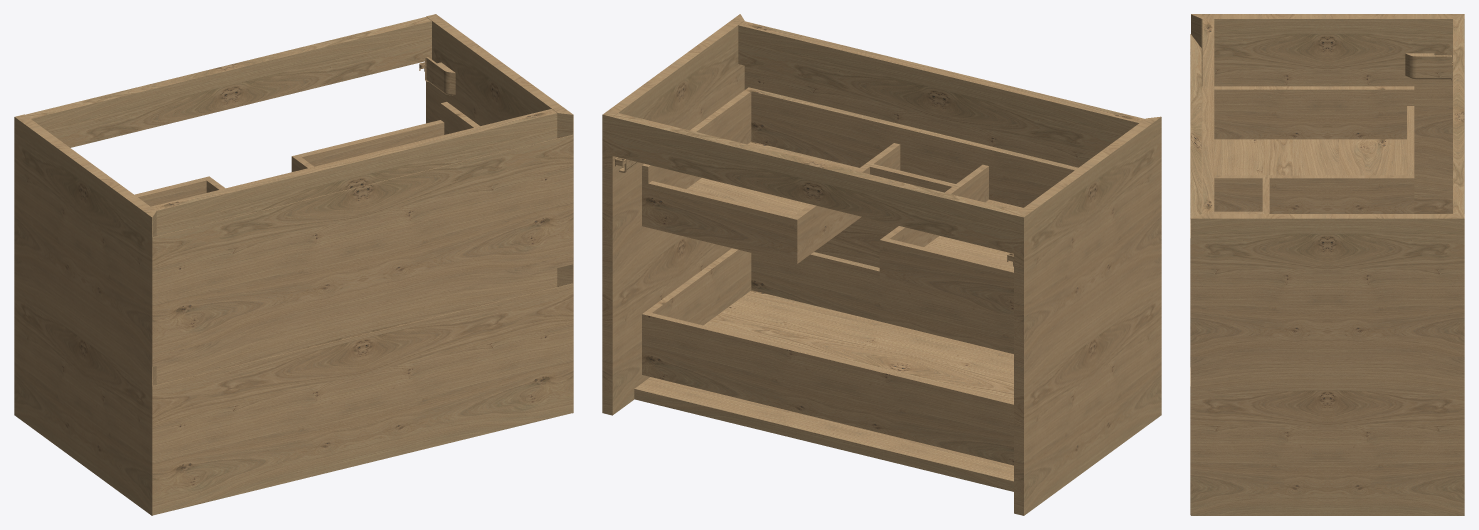
The model's file is moment8002c.glb.
3 renders of one model, left to right at view 1: azimuth 30°, elevation 25°; view 2: azimuth 150°, elevation 25°; view 3: azimuth 270°, elevation 25°, orthographic.
Visible parts, largest first — view 1: Moment 800 2c; view 2: Moment 800 2c; view 3: Moment 800 2c.
Part boxes in pixels (left/top/right/bottom): Moment 800 2c: left=14, top=14, right=573, bottom=515; Moment 800 2c: left=602, top=14, right=1161, bottom=515; Moment 800 2c: left=1190, top=14, right=1464, bottom=515.
Size of the model in its own units: 0.798 by 0.54 by 0.452.
1 material, 1 textured.
